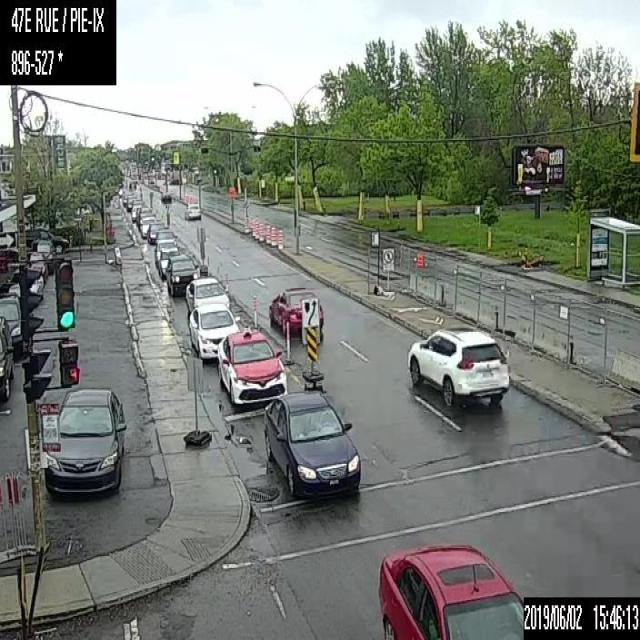construction: (285, 320, 292, 364), (252, 295, 257, 329), (277, 228, 283, 249), (270, 225, 276, 246), (258, 220, 264, 240), (252, 220, 258, 238), (265, 222, 270, 243)
vehicle: (377, 541, 522, 639), (262, 388, 361, 503), (45, 386, 122, 499), (406, 324, 508, 404), (217, 330, 287, 406), (187, 303, 239, 362), (268, 286, 322, 338), (183, 276, 230, 317), (167, 253, 200, 295), (0, 291, 22, 354), (0, 315, 15, 401), (25, 228, 69, 252), (11, 268, 43, 300), (28, 238, 55, 274), (152, 238, 176, 266), (159, 245, 179, 276), (26, 253, 46, 280), (155, 228, 177, 246), (140, 217, 158, 238), (146, 222, 164, 243), (183, 201, 200, 219), (139, 213, 155, 232), (136, 206, 150, 226), (130, 204, 141, 222), (126, 196, 136, 211), (130, 200, 144, 209), (160, 192, 171, 202)
